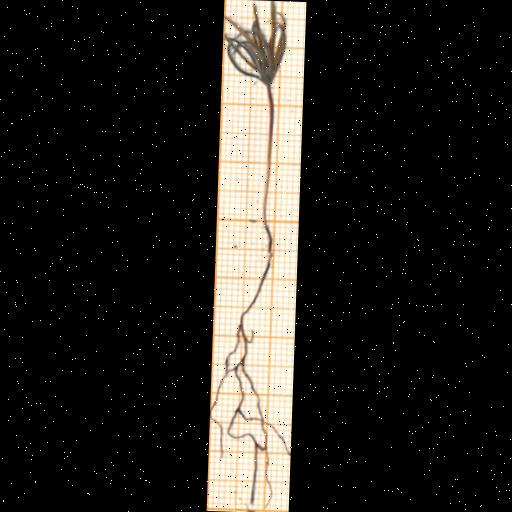flowerPinus: (225, 0, 287, 85)
rootPinus: (212, 225, 273, 505)
stemPinus: (261, 83, 274, 225)
